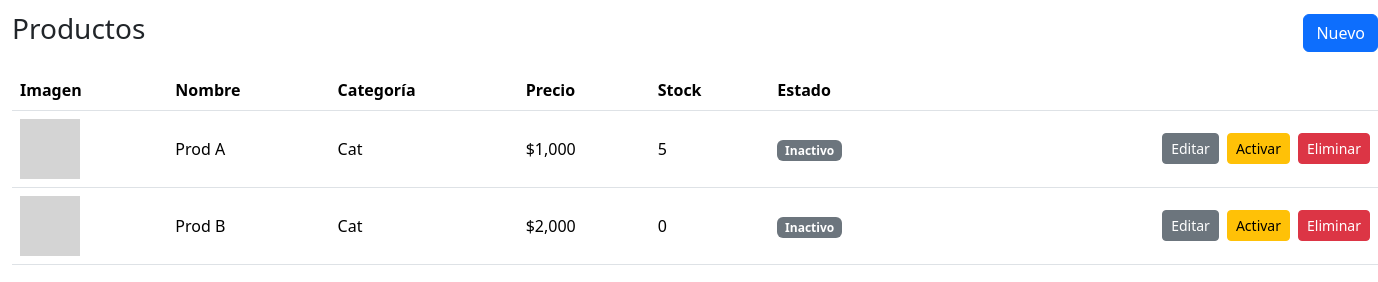
AdminProductos › lista productos y elimina uno
Expected: the text "Prod A" is shown, [167, 110, 330, 187]
Expected: the text "Prod B" is shown, [167, 187, 330, 264]
Click the button "Eliminar" in the row of "Prod A": x=1334, y=149 [1298, 133, 1370, 164]
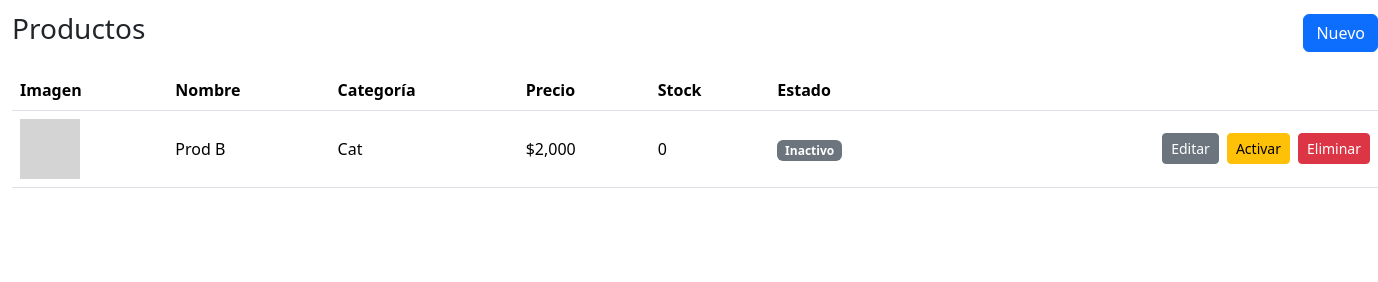
Expected: the text "Prod B" is shown, [167, 110, 330, 187]
Now the text "Prod A" is gone
